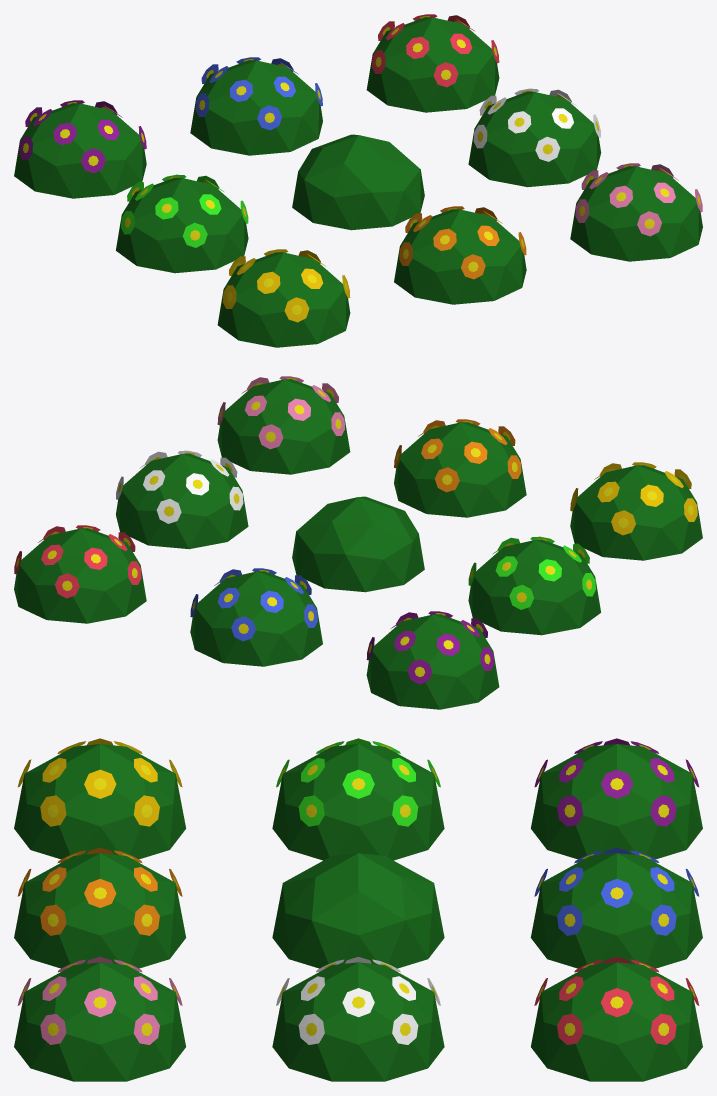
The model's file is CargoBushModel.fbx.
The picture shows the model from 3 angles, top to bottom: view 1: azimuth 30°, elevation 25°; view 2: azimuth 150°, elevation 25°; view 3: azimuth 270°, elevation 25°; orthographic projection. The views are drawn at different scales.
Parts seen in each view (by area): view 1: FlowerBushPurple, FlowerBushOrange, FlowerBushWhite, FlowerBushBlue, FlowerBushPink, FlowerBushYellow, FlowerBushGreen, FlowerBushRed, Bush; view 2: FlowerBushBlue, FlowerBushOrange, FlowerBushRed, FlowerBushYellow, FlowerBushWhite, FlowerBushPurple, FlowerBushGreen, FlowerBushPink, Bush; view 3: FlowerBushWhite, FlowerBushRed, FlowerBushPink, FlowerBushGreen, FlowerBushBlue, FlowerBushOrange, FlowerBushPurple, FlowerBushYellow, Bush.
Part boxes in pixels (x1,y1,x2,y2): FlowerBushPurple: (14,100,146,198); FlowerBushOrange: (394,206,526,304); FlowerBushWhite: (468,88,601,187); FlowerBushBlue: (190,57,322,155); FlowerBushPink: (570,163,702,261); FlowerBushYellow: (217,249,350,347); FlowerBushGreen: (116,174,248,273); FlowerBushRed: (366,14,499,112); Bush: (292,134,424,230); FlowerBushBlue: (190,568,322,666); FlowerBushOrange: (394,419,526,517); FlowerBushRed: (14,525,146,623); FlowerBushYellow: (570,462,702,560); FlowerBushWhite: (116,450,248,549); FlowerBushPurple: (366,611,499,709); FlowerBushGreen: (468,536,600,635); FlowerBushPink: (217,376,350,474); Bush: (292,496,424,592); FlowerBushWhite: (272,957,444,1081); FlowerBushRed: (531,957,702,1081); FlowerBushPink: (14,957,185,1081); FlowerBushGreen: (272,738,444,860); FlowerBushBlue: (530,847,702,968); FlowerBushOrange: (14,847,186,968); FlowerBushPurple: (531,738,702,859); FlowerBushYellow: (14,738,185,859); Bush: (272,853,444,968).
Size of the model in its own units: 793 by 109 by 800.
